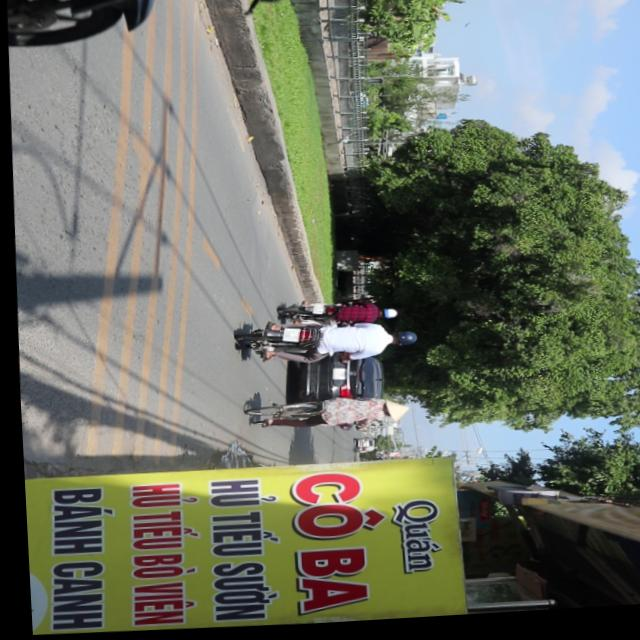helmet: (386, 332, 415, 350)
licenseplate: (230, 316, 415, 372)
nohelmet: (276, 330, 296, 345)
